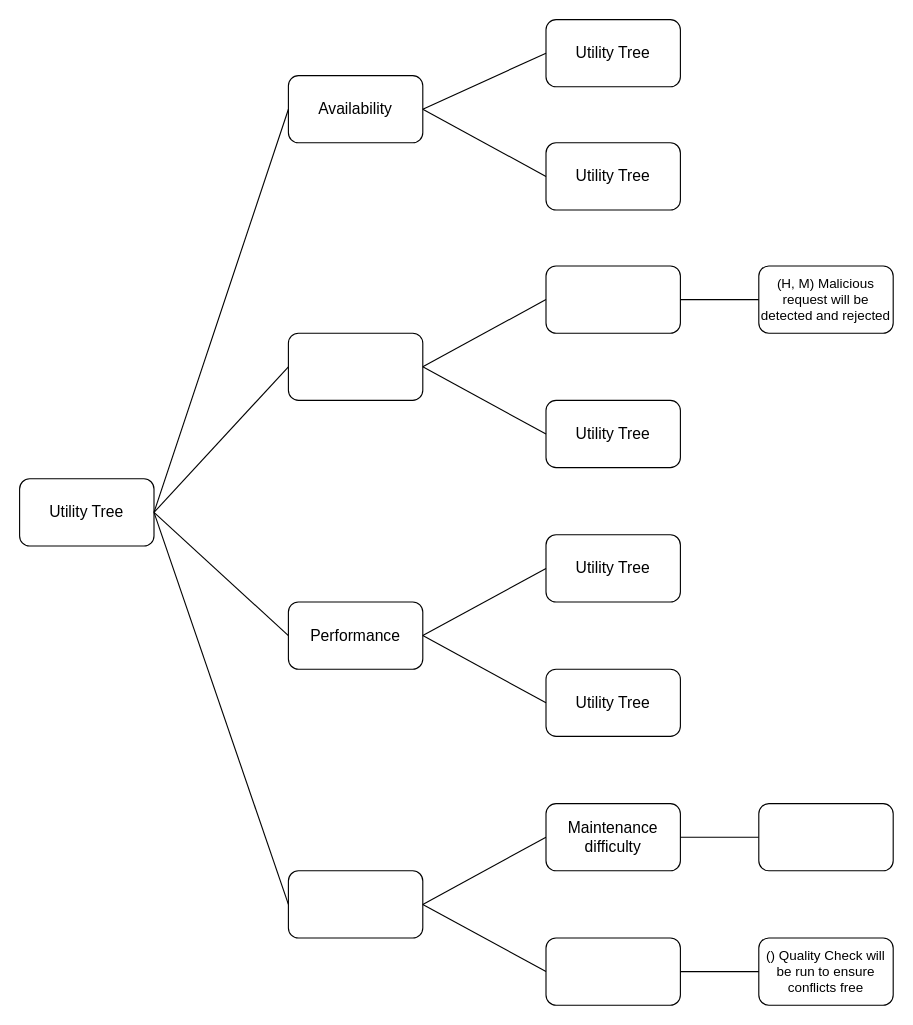
The diagram is 913 pixels wide and 1025 high, and some of its shapes have lost their labels. The shapes that lost their labels are listed below. From the top down, each one's centre as x and y in pixels, then its label:
[612,299]: Malicious defence
[355,366]: Security
[825,836]: () CI/CD pipeline is designed easy for changes
[355,904]: Reliability
[612,971]: Quality Check
